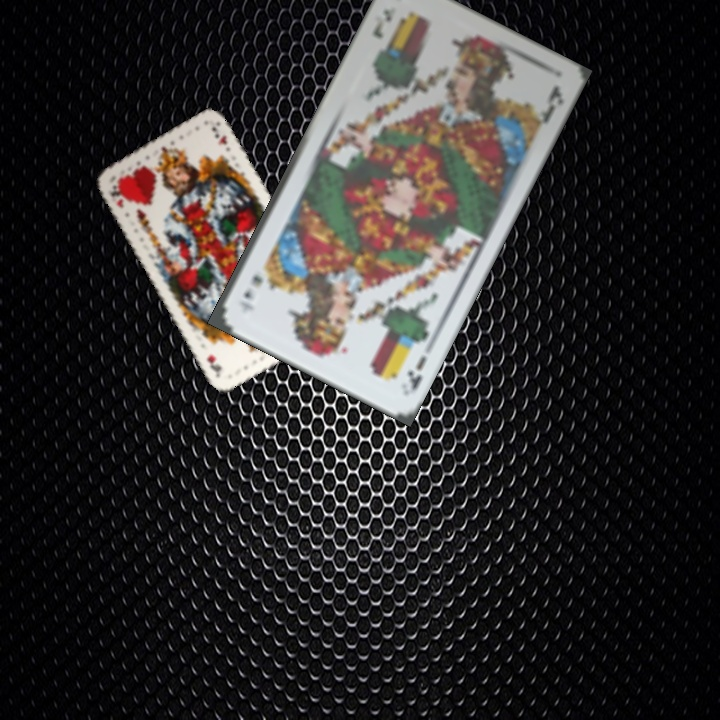EK: (403, 351, 429, 397), (369, 3, 398, 42)
HK: (106, 178, 130, 210)
